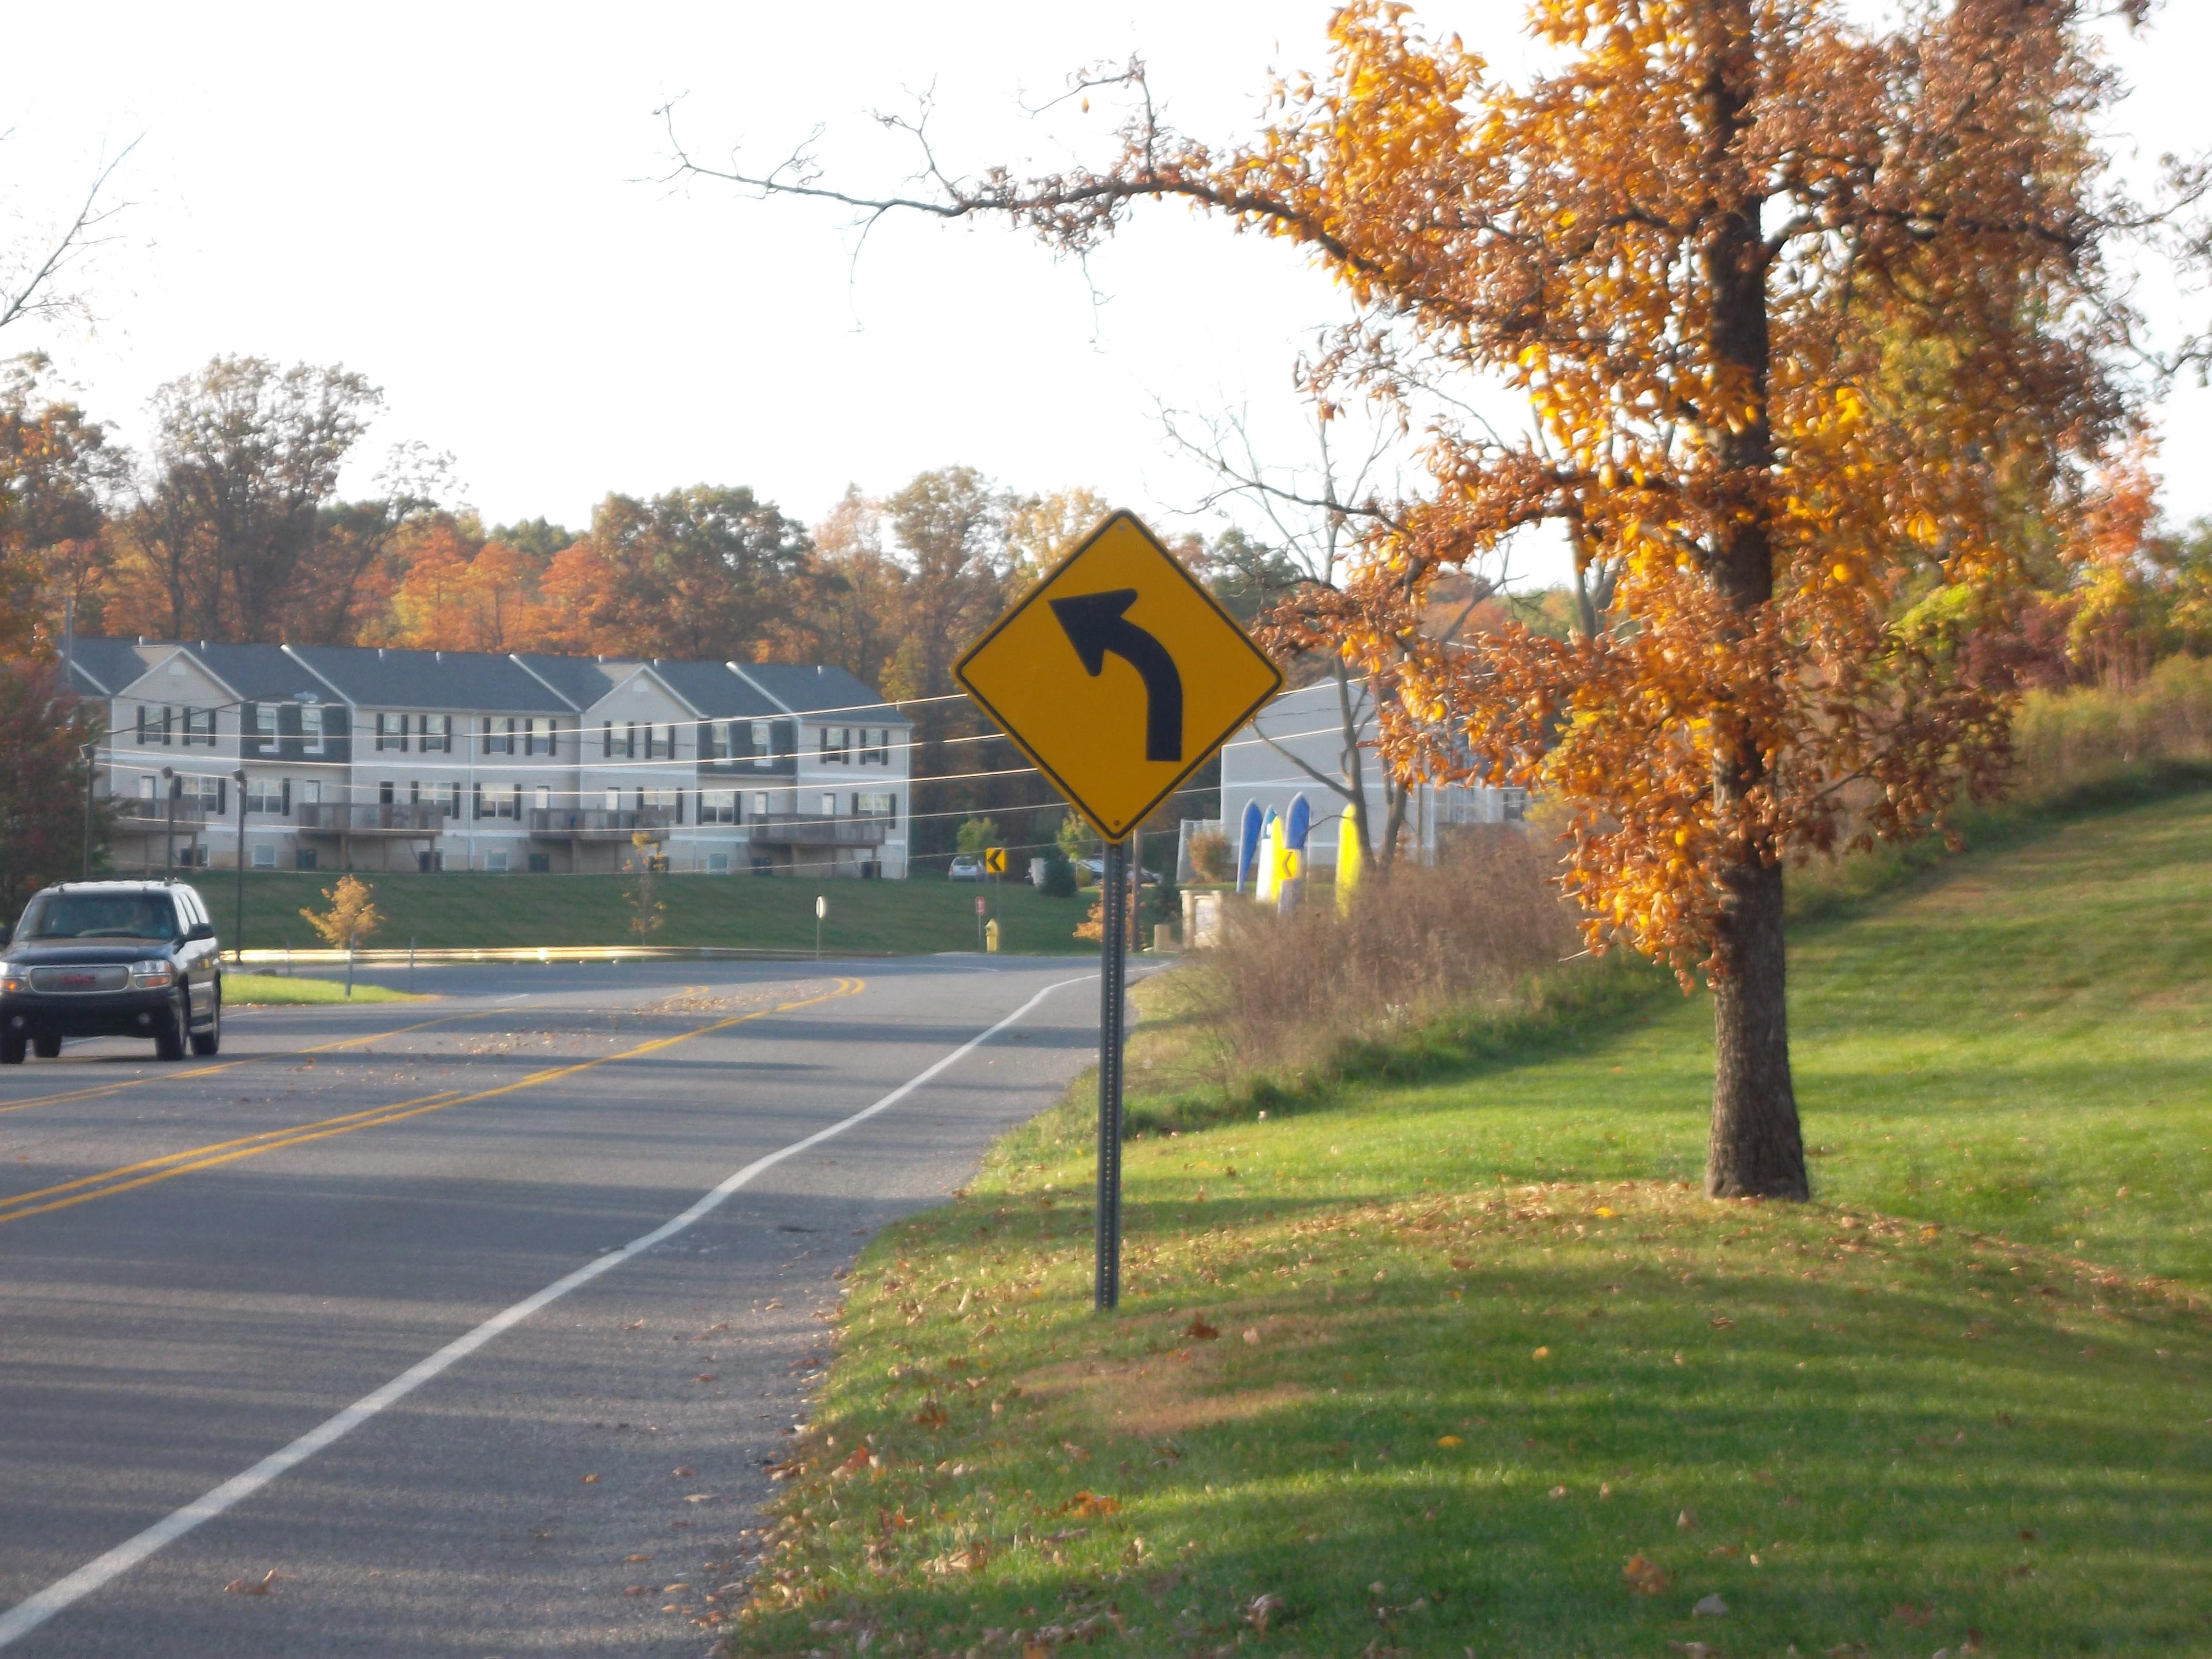warning: (953, 498, 1292, 838)
